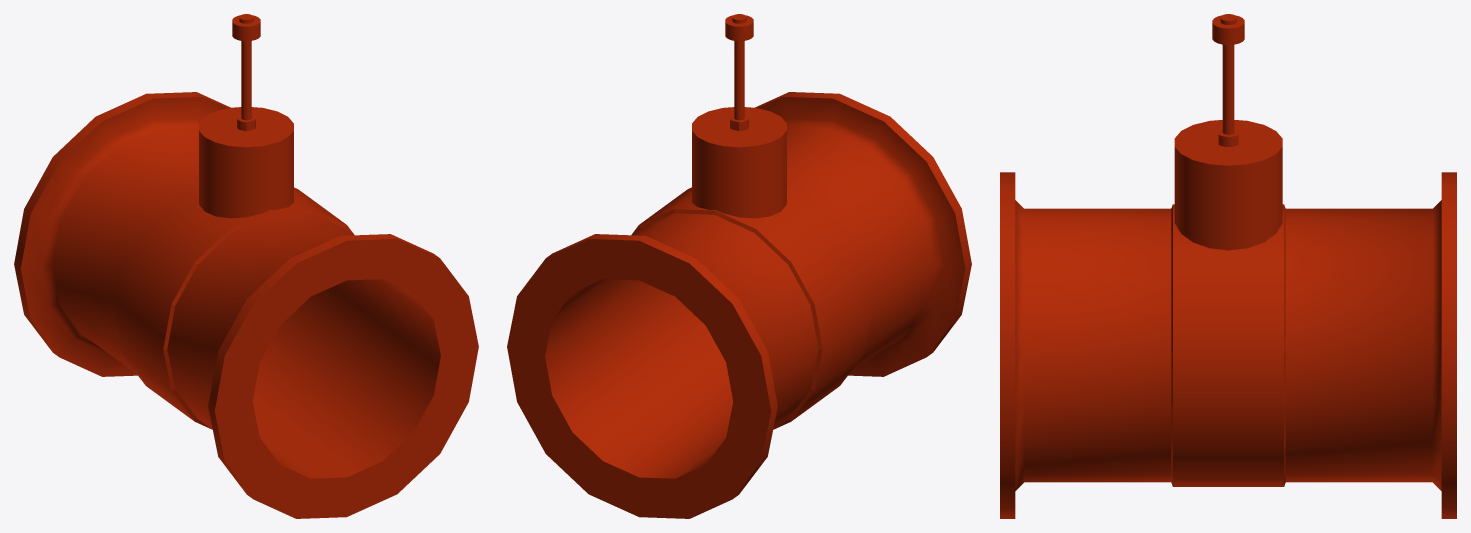
The model's file is PipeValve_01.FBX.
3 views of the same model, side by side, from view 1: azimuth 30°, elevation 25°; view 2: azimuth 150°, elevation 25°; view 3: azimuth 270°, elevation 25° (orthographic). The views are drawn at different scales.
Visible parts, largest first — view 1: PipeValve_up1_01_Low; view 2: PipeValve_up1_01_Low; view 3: PipeValve_up1_01_Low.
Boxes of the visible parts, bbox=[...] form: PipeValve_up1_01_Low: bbox=[14, 14, 478, 518]; PipeValve_up1_01_Low: bbox=[507, 14, 971, 518]; PipeValve_up1_01_Low: bbox=[1000, 14, 1456, 518].
Bounding box in the file's own units: 38 × 58.64 × 50.
